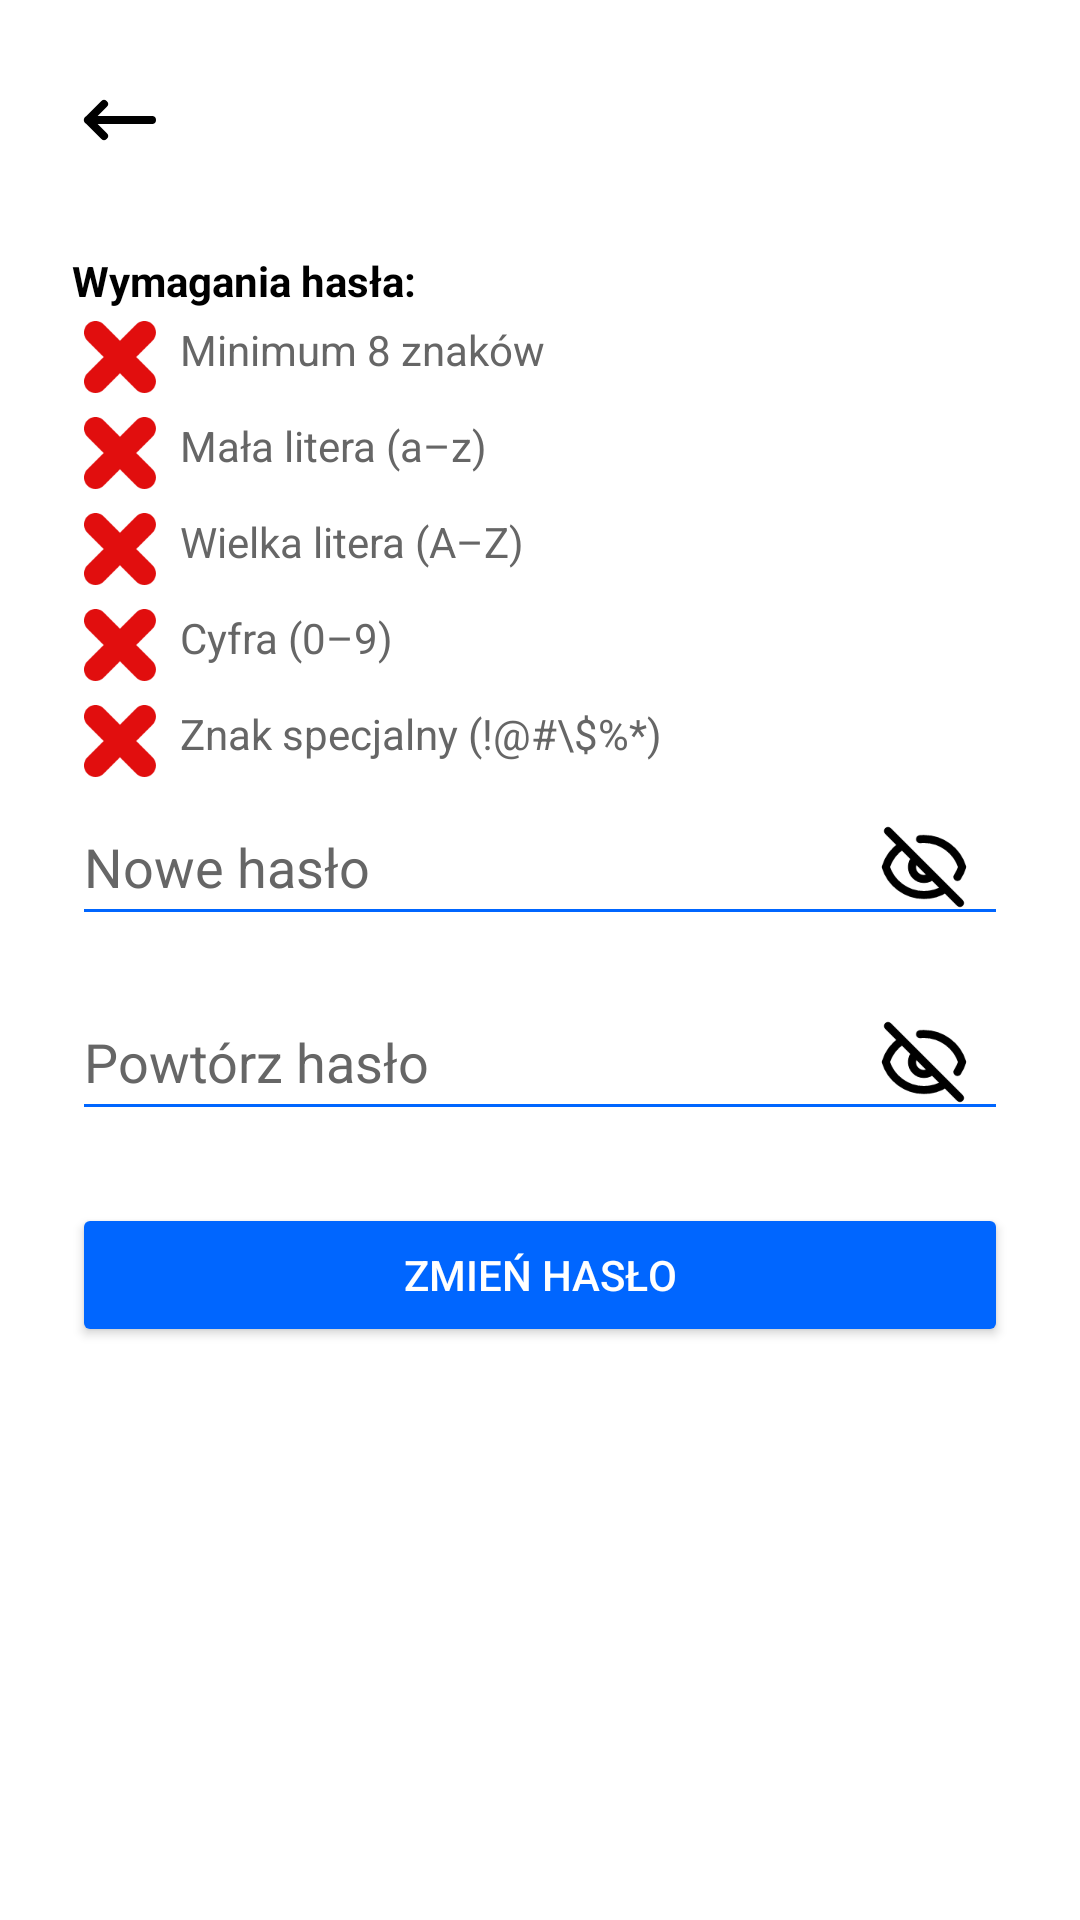

Point at icon controls on the screen. Image size 1080 x 1920, points as [x,y].
arrow: [119,120]
